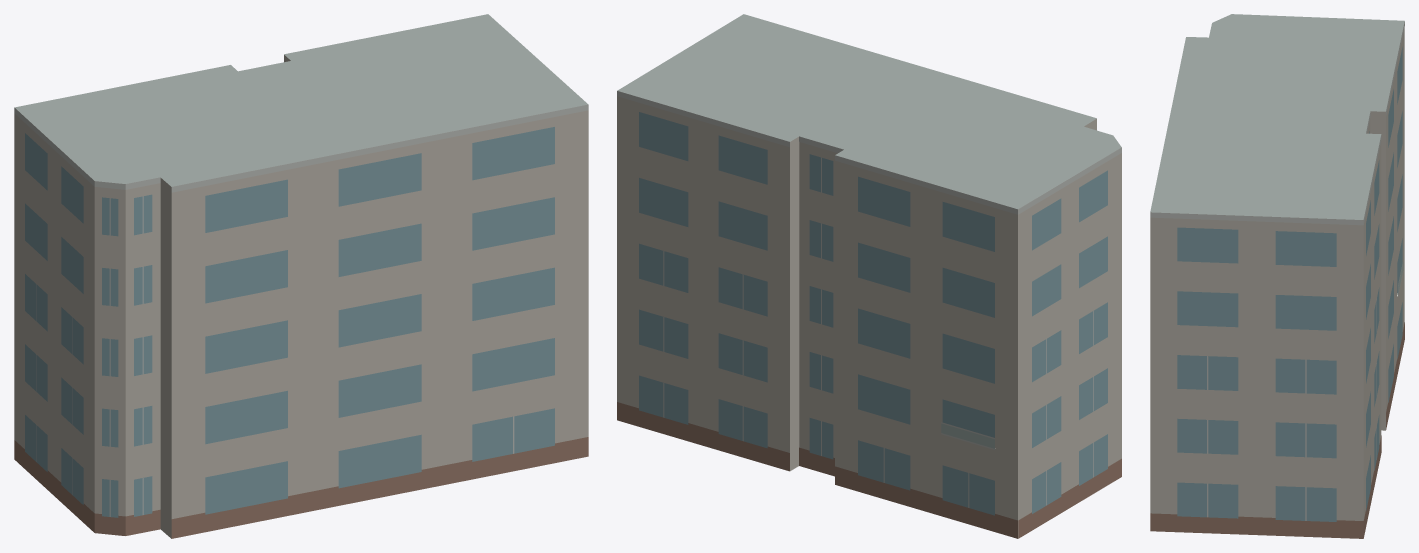
Rendered from survey-upis-32667245.glb.
3 views of the same model, side by side, from view 1: azimuth 30°, elevation 25°; view 2: azimuth 150°, elevation 25°; view 3: azimuth 270°, elevation 25° (orthographic). The views are drawn at different scales.
Parts seen in each view (by area): view 1: survey-upis-32667245.tmp; view 2: survey-upis-32667245.tmp; view 3: survey-upis-32667245.tmp.
Part boxes in pixels (x1,y1,x2,y2): survey-upis-32667245.tmp: [14, 14, 588, 538]; survey-upis-32667245.tmp: [617, 14, 1121, 538]; survey-upis-32667245.tmp: [1150, 14, 1404, 538].
Size of the model in its own units: 20.53 by 14.8 by 10.72.
